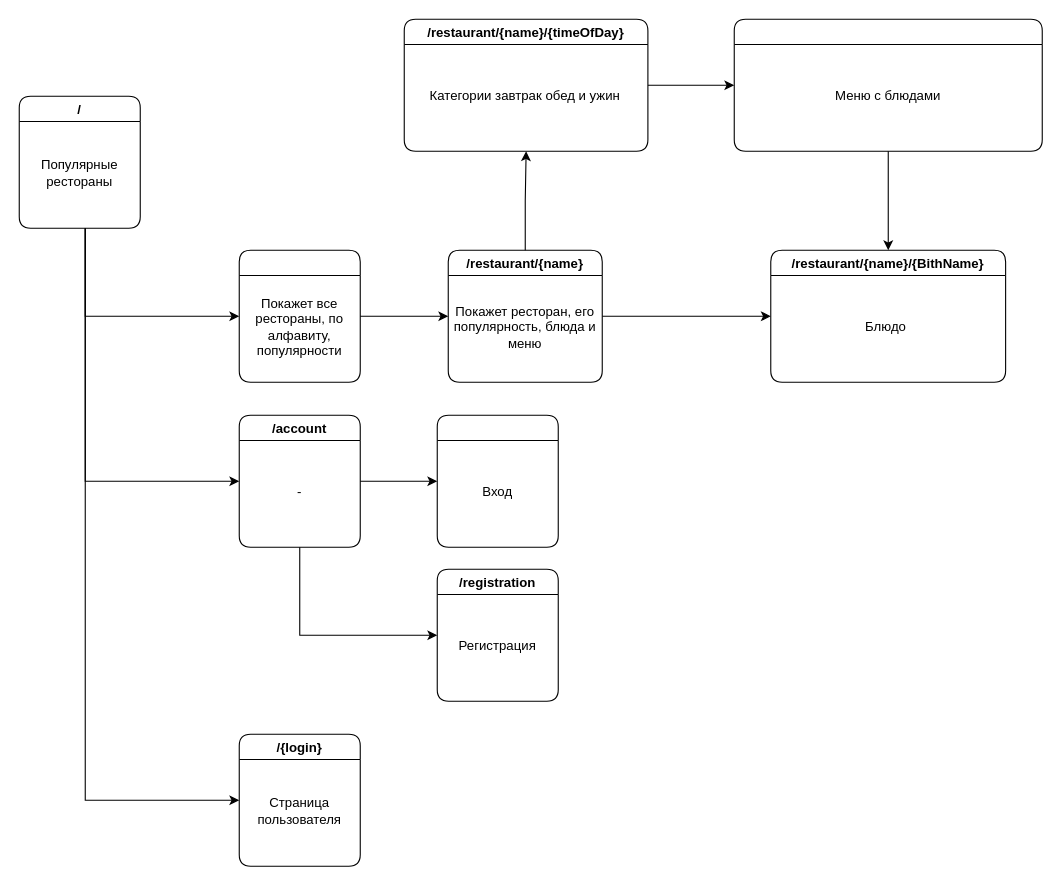
Image size: 1062x886. Some labels were removed from this diagram. The box of each missing label's shape, as (x1, y1, x2, y2) in pixels:
/login: (436, 414, 558, 547)
/restaurant: (238, 249, 360, 382)
/restaurant/{name}/{timeOfDay}/{MenuName}: (733, 18, 1042, 151)
